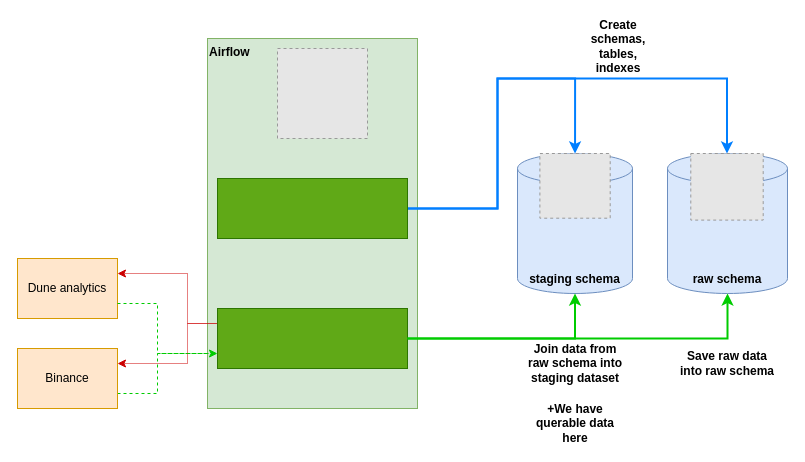
The diagram is 805 pixels wide and 462 high, and some of its shapes have lost their labels. Grey dashed boxes stand in for pictures. The centre of each missing label's shape, as x and y in pixels:
"db_migrations_dag" goes at (312,208).
"trade_execution_quality_dag" goes at (312,338).
